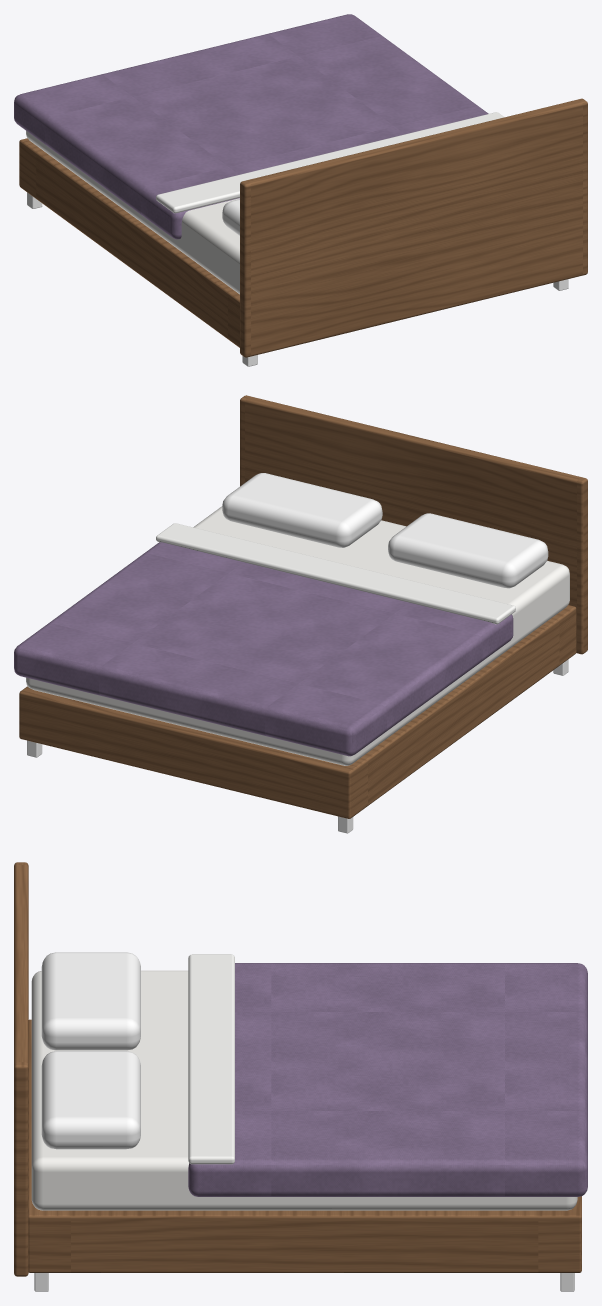
Rendered from mueble.cama_doble.fbx.
3 views of the same model, one above another, from view 1: azimuth 30°, elevation 25°; view 2: azimuth 150°, elevation 25°; view 3: azimuth 270°, elevation 25° (orthographic). The views are drawn at different scales.
Visible parts, largest first — view 1: Cabecera, Frazada, Base, Colchon, Sabana doblada, Almohada.001; view 2: Frazada, Base, Cabecera, Colchon, Sabana doblada, Almohada.001, Almohada; view 3: Frazada, Base, Colchon, Sabana doblada, Almohada.001, Almohada, Cabecera.
Part boxes in pixels (<box>): Cabecera: <box>240,98,587,357</box>; Frazada: <box>14,14,488,239</box>; Base: <box>19,138,239,347</box>; Colchon: <box>26,131,239,294</box>; Sabana doblada: <box>156,112,504,213</box>; Almohada.001: <box>222,199,239,235</box>; Frazada: <box>14,542,513,756</box>; Base: <box>19,605,576,818</box>; Cabecera: <box>240,395,587,654</box>; Colchon: <box>26,506,569,765</box>; Sabana doblada: <box>156,523,515,624</box>; Almohada.001: <box>388,513,548,588</box>; Almohada: <box>222,473,382,547</box>; Frazada: <box>188,963,587,1196</box>; Base: <box>28,1019,581,1272</box>; Colchon: <box>31,970,577,1210</box>; Sabana doblada: <box>188,954,234,1164</box>; Almohada.001: <box>41,952,140,1050</box>; Almohada: <box>41,1051,140,1149</box>; Cabecera: <box>14,862,28,1276</box>.
Bounding box in the file's own units: 1.66 × 0.88 × 1.97.
6 materials, 2 textured.
